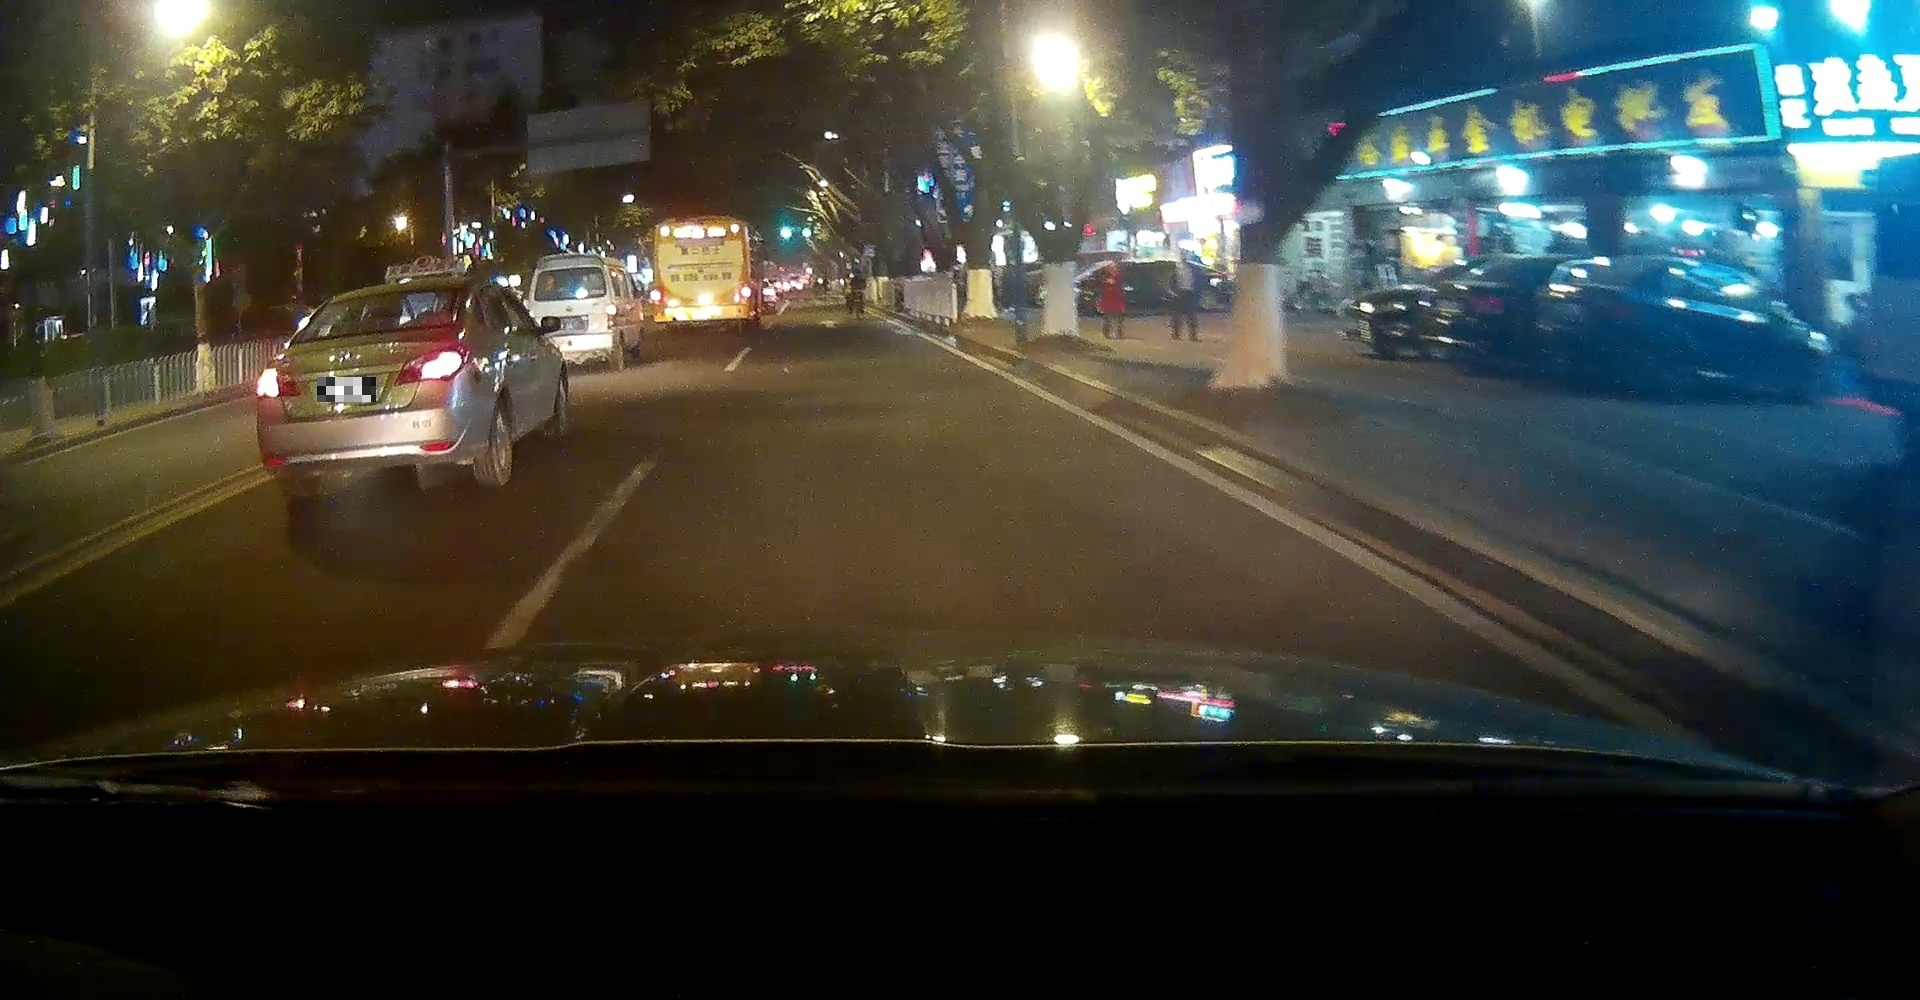L_light: (254, 367, 301, 397), (651, 286, 664, 305)
R_light: (392, 343, 470, 385), (739, 283, 750, 302)
T_light: (375, 291, 403, 299), (695, 221, 710, 227)
night-no: (253, 275, 470, 492), (651, 216, 750, 332)
plate_1: (317, 377, 376, 402)
